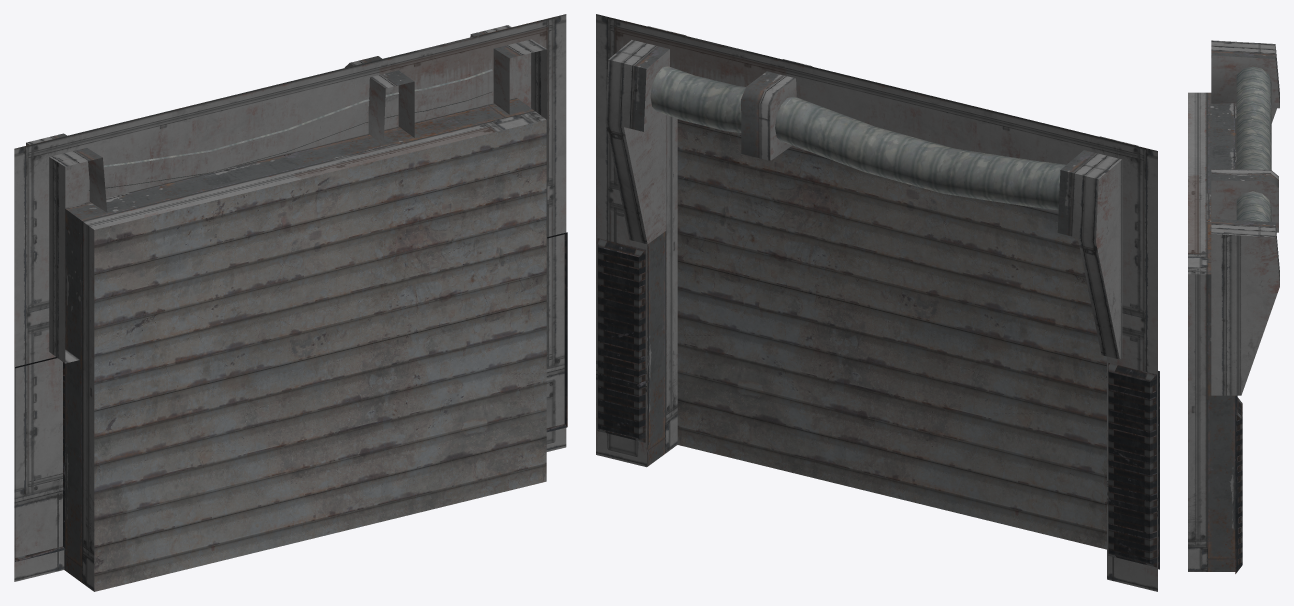
The model's file is ARC0910217.fbx.
3 views of the same model, side by side, from view 1: azimuth 30°, elevation 25°; view 2: azimuth 150°, elevation 25°; view 3: azimuth 270°, elevation 25° (orthographic). The views are drawn at different scales.
Visible parts, largest first — view 1: smARC0910217; view 2: smARC0910217; view 3: smARC0910217.
Part boxes in pixels (x1,y1,x2,y2): smARC0910217: [14, 14, 567, 591]; smARC0910217: [596, 14, 1159, 591]; smARC0910217: [1188, 40, 1279, 573].
Bounding box in the file's own units: 400 × 300 × 70.15.
1 material, 1 textured.
